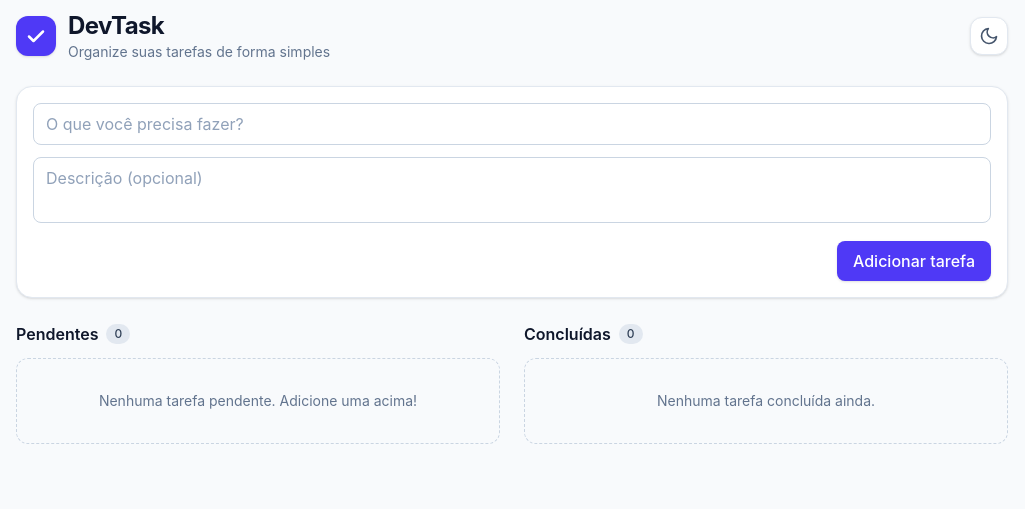
it: App › cria uma tarefa e limpa o formulário
expect the text "Nenhuma tarefa concluída ainda." is shown: met, box [524,358,1008,444]
Type "Nova tarefa" into the field named "Título da tarefa".
click(512, 124); type("Nova tarefa")  # box [33,103,991,145]
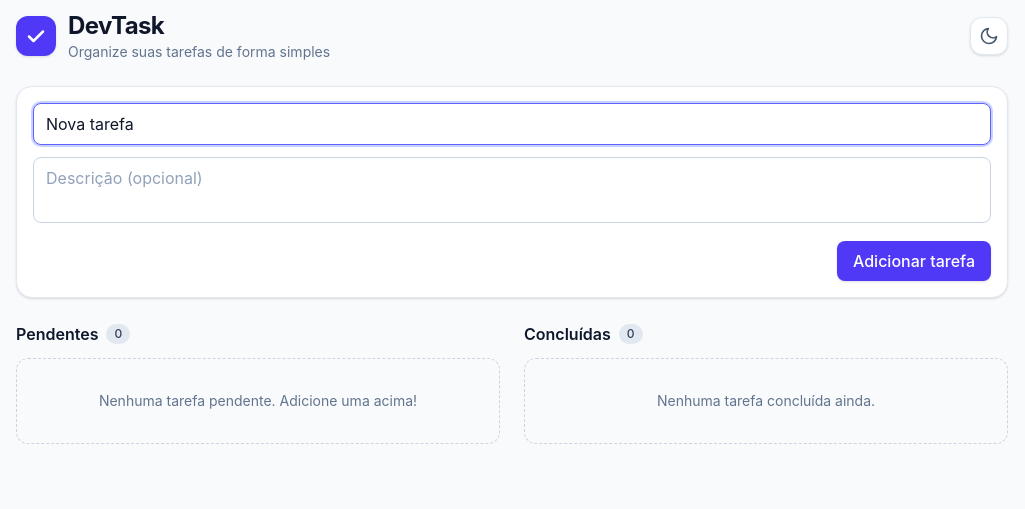
Type "Detalhes" into the text box labelled "Descrição (opcional)".
click(512, 190); type("Detalhes")  # box [33,157,991,223]
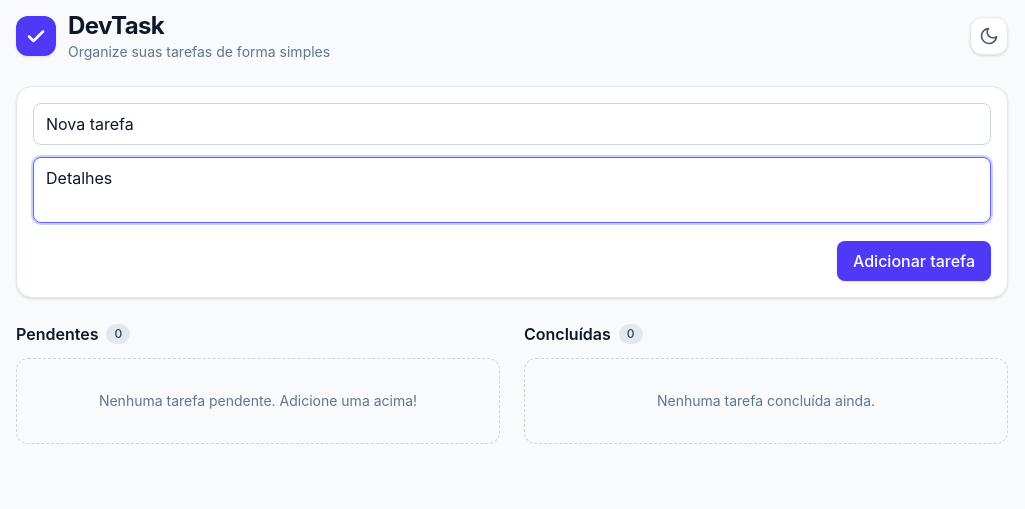
Click the button "Adicionar tarefa".
click(914, 261)  # box [837,241,991,281]
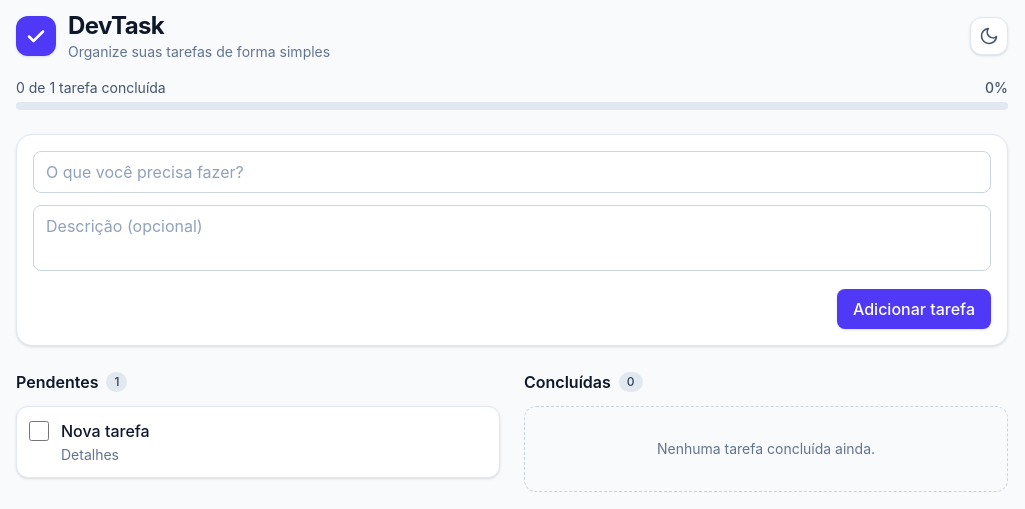
expect the text "Nova tarefa" is shown: met, box [61,421,150,441]
expect the field named "Título da tarefa" is empty: met, box [33,151,991,193]
